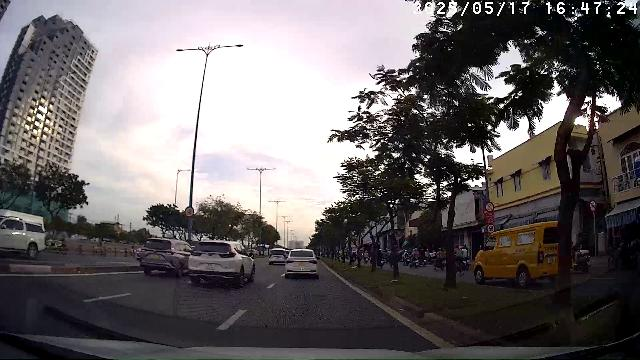127-toc-do-toi-da-50: (486, 223, 495, 233)
